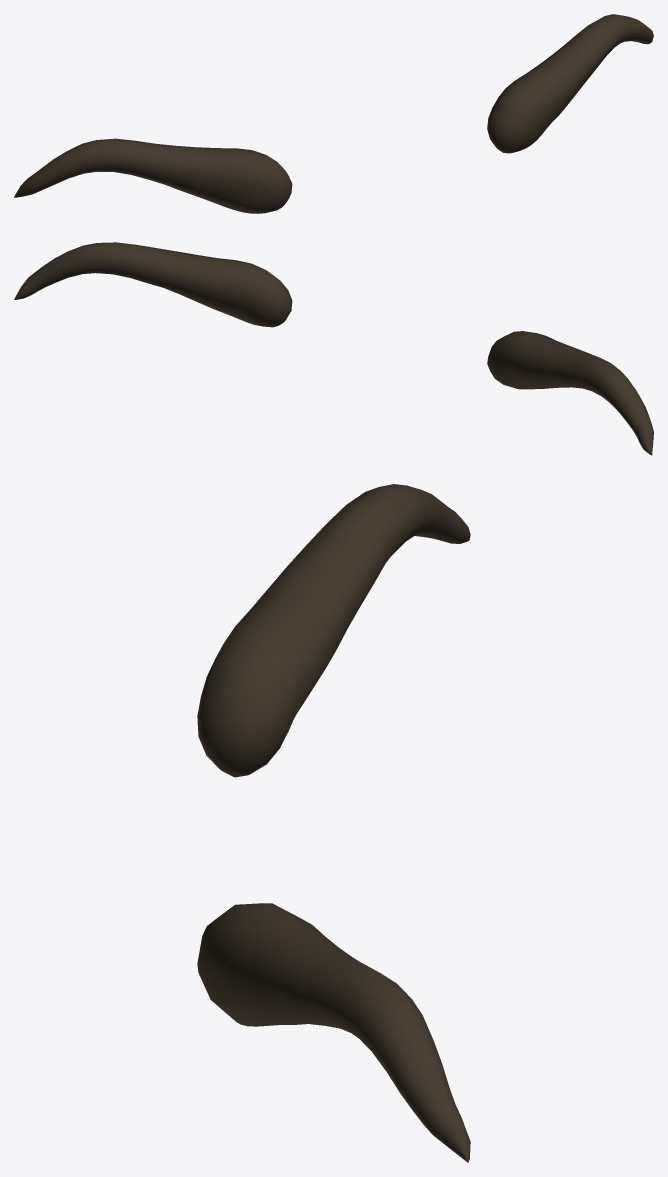
The model's file is S_shaped.glb.
3 renders of one model, top to bottom at view 1: azimuth 30°, elevation 25°; view 2: azimuth 150°, elevation 25°; view 3: azimuth 270°, elevation 25°, orthographic. The views are drawn at different scales.
Visible parts, largest first — view 1: S_shaped; view 2: S_shaped; view 3: S_shaped.
Boxes of the visible parts, left/top/right/bottom form: S_shaped: left=14, top=14, right=653, bottom=213; S_shaped: left=14, top=242, right=653, bottom=455; S_shaped: left=197, top=484, right=470, bottom=1162.
Bounding box in the file's own units: 0.00577 × 0.000654 × 0.00107.
